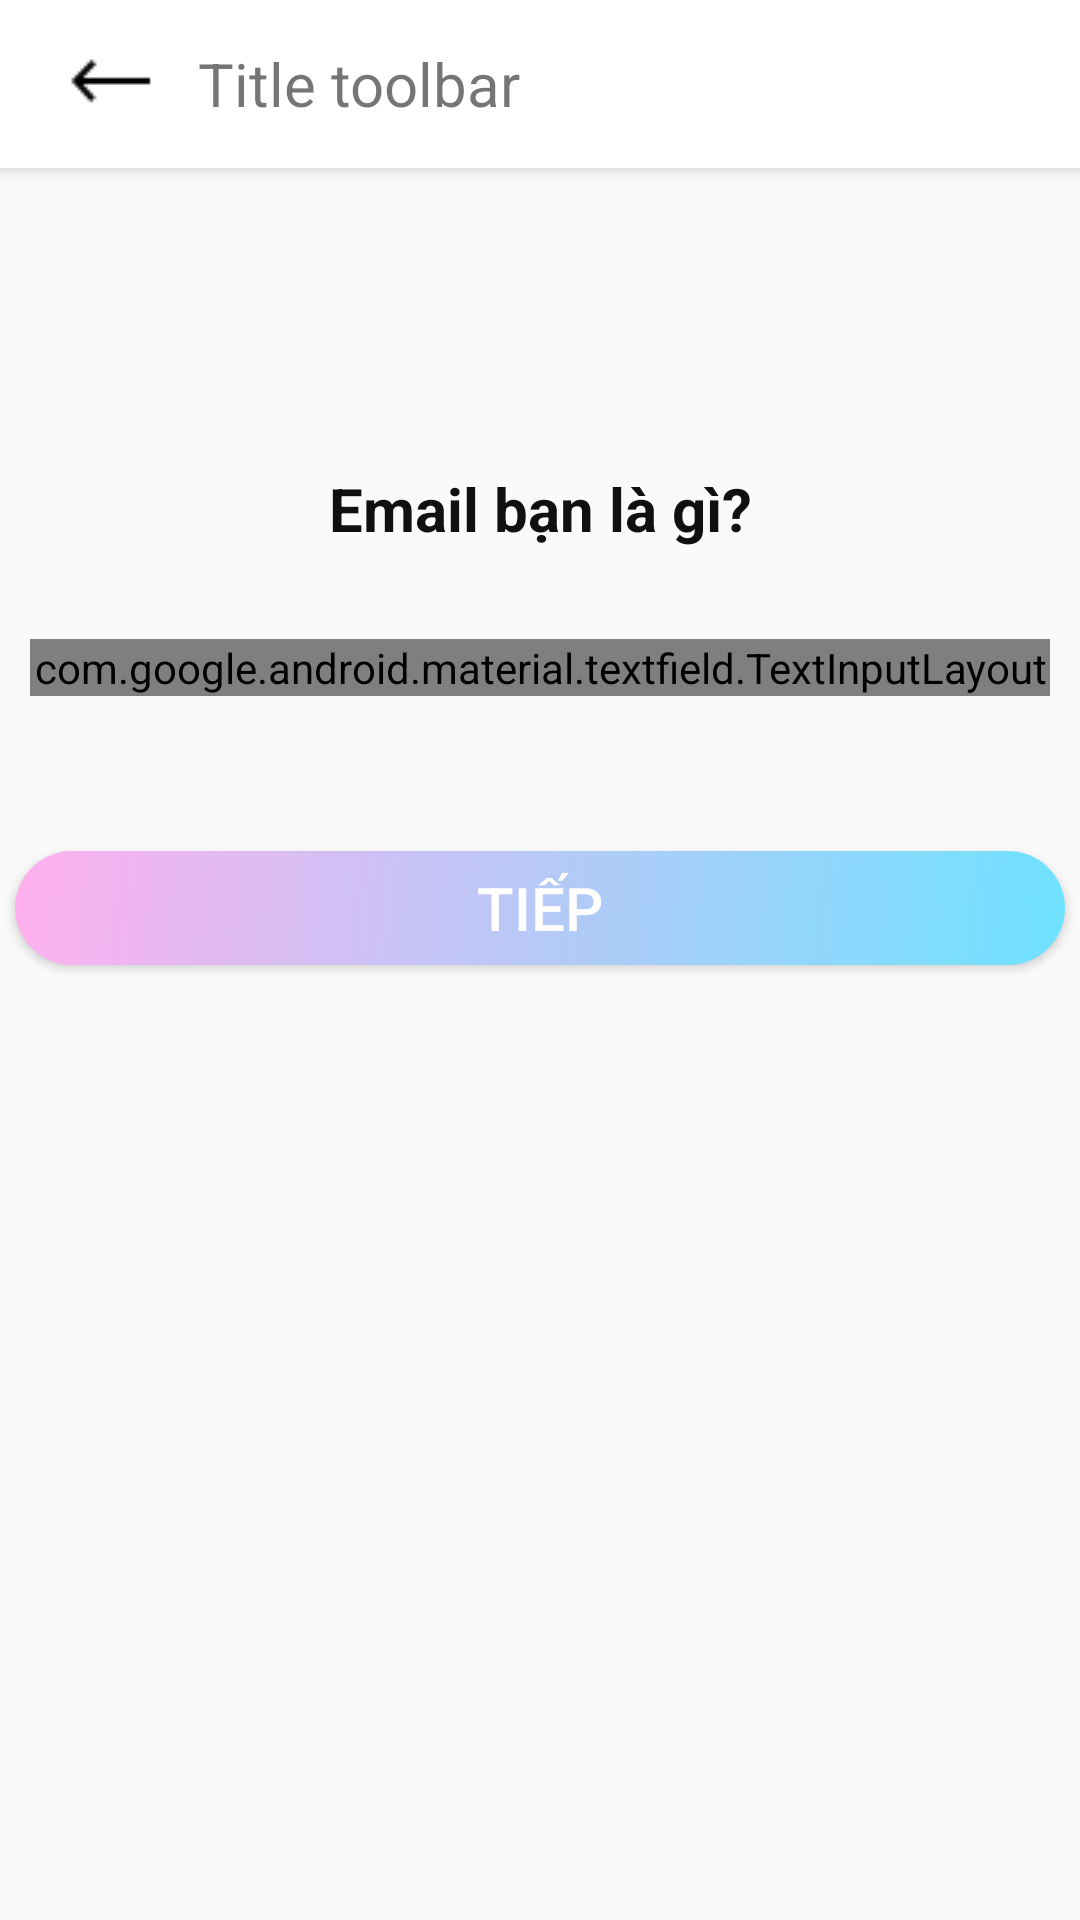

Screen size 1080×1920. Icon name, then its box in pixels as {"x1": x1, "y1": y1, "x2": x2, "y2": y2}:
back toolbar: {"x1": 71, "y1": 59, "x2": 151, "y2": 103}
